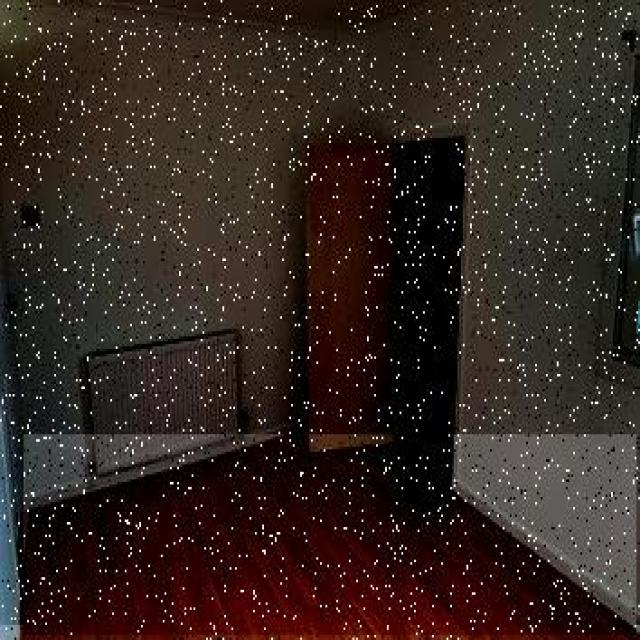Wall: (0, 0, 640, 625), (24, 436, 633, 635), (87, 1, 443, 32)
